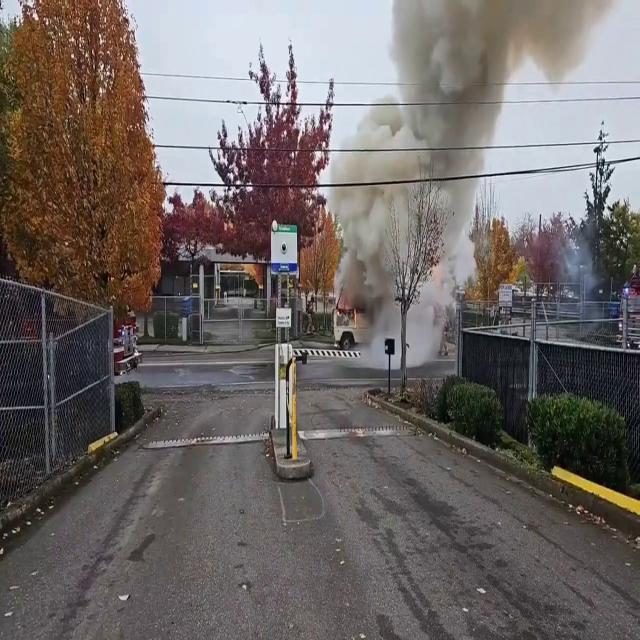Smoke: (333, 0, 536, 322), (549, 220, 610, 334)
